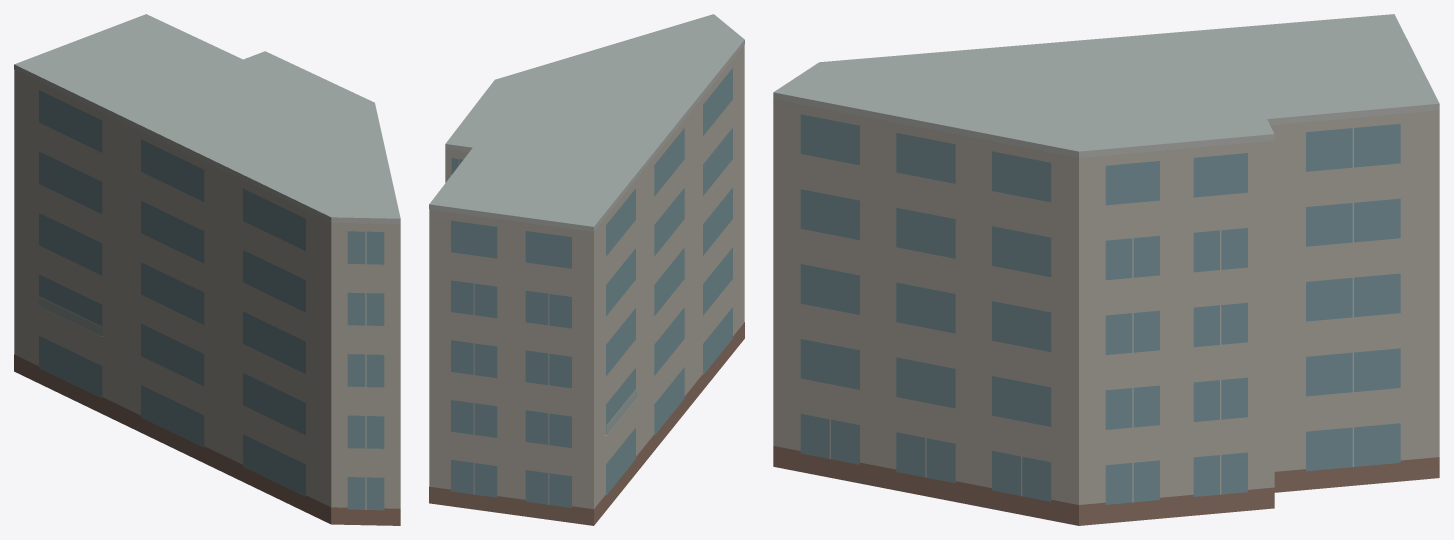
File: survey-upis-32716591.glb
The picture shows the model from 3 angles, left to right: view 1: azimuth 30°, elevation 25°; view 2: azimuth 150°, elevation 25°; view 3: azimuth 270°, elevation 25°; orthographic projection. The views are drawn at different scales.
Visible parts, largest first — view 1: survey-upis-32716591.tmp; view 2: survey-upis-32716591.tmp; view 3: survey-upis-32716591.tmp.
Boxes of the visible parts, x1,y1,x2,y2 form: survey-upis-32716591.tmp: [14, 14, 400, 525]; survey-upis-32716591.tmp: [429, 14, 744, 525]; survey-upis-32716591.tmp: [773, 14, 1439, 525].
Bounding box in the file's own units: 11.2 × 14.2 × 22.92.
